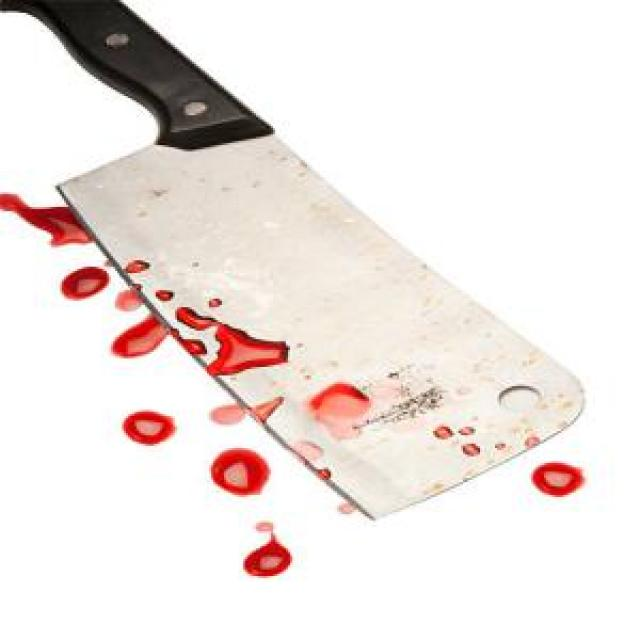knife: (0, 4, 599, 522)
